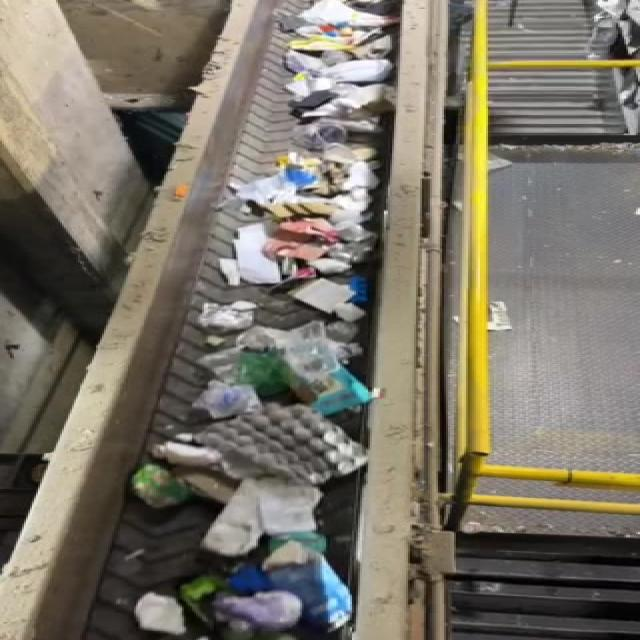paper: (257, 547, 368, 629), (223, 474, 330, 552), (125, 591, 189, 638)
pp: (258, 329, 403, 409), (113, 459, 187, 517)
ps: (204, 403, 402, 484)
